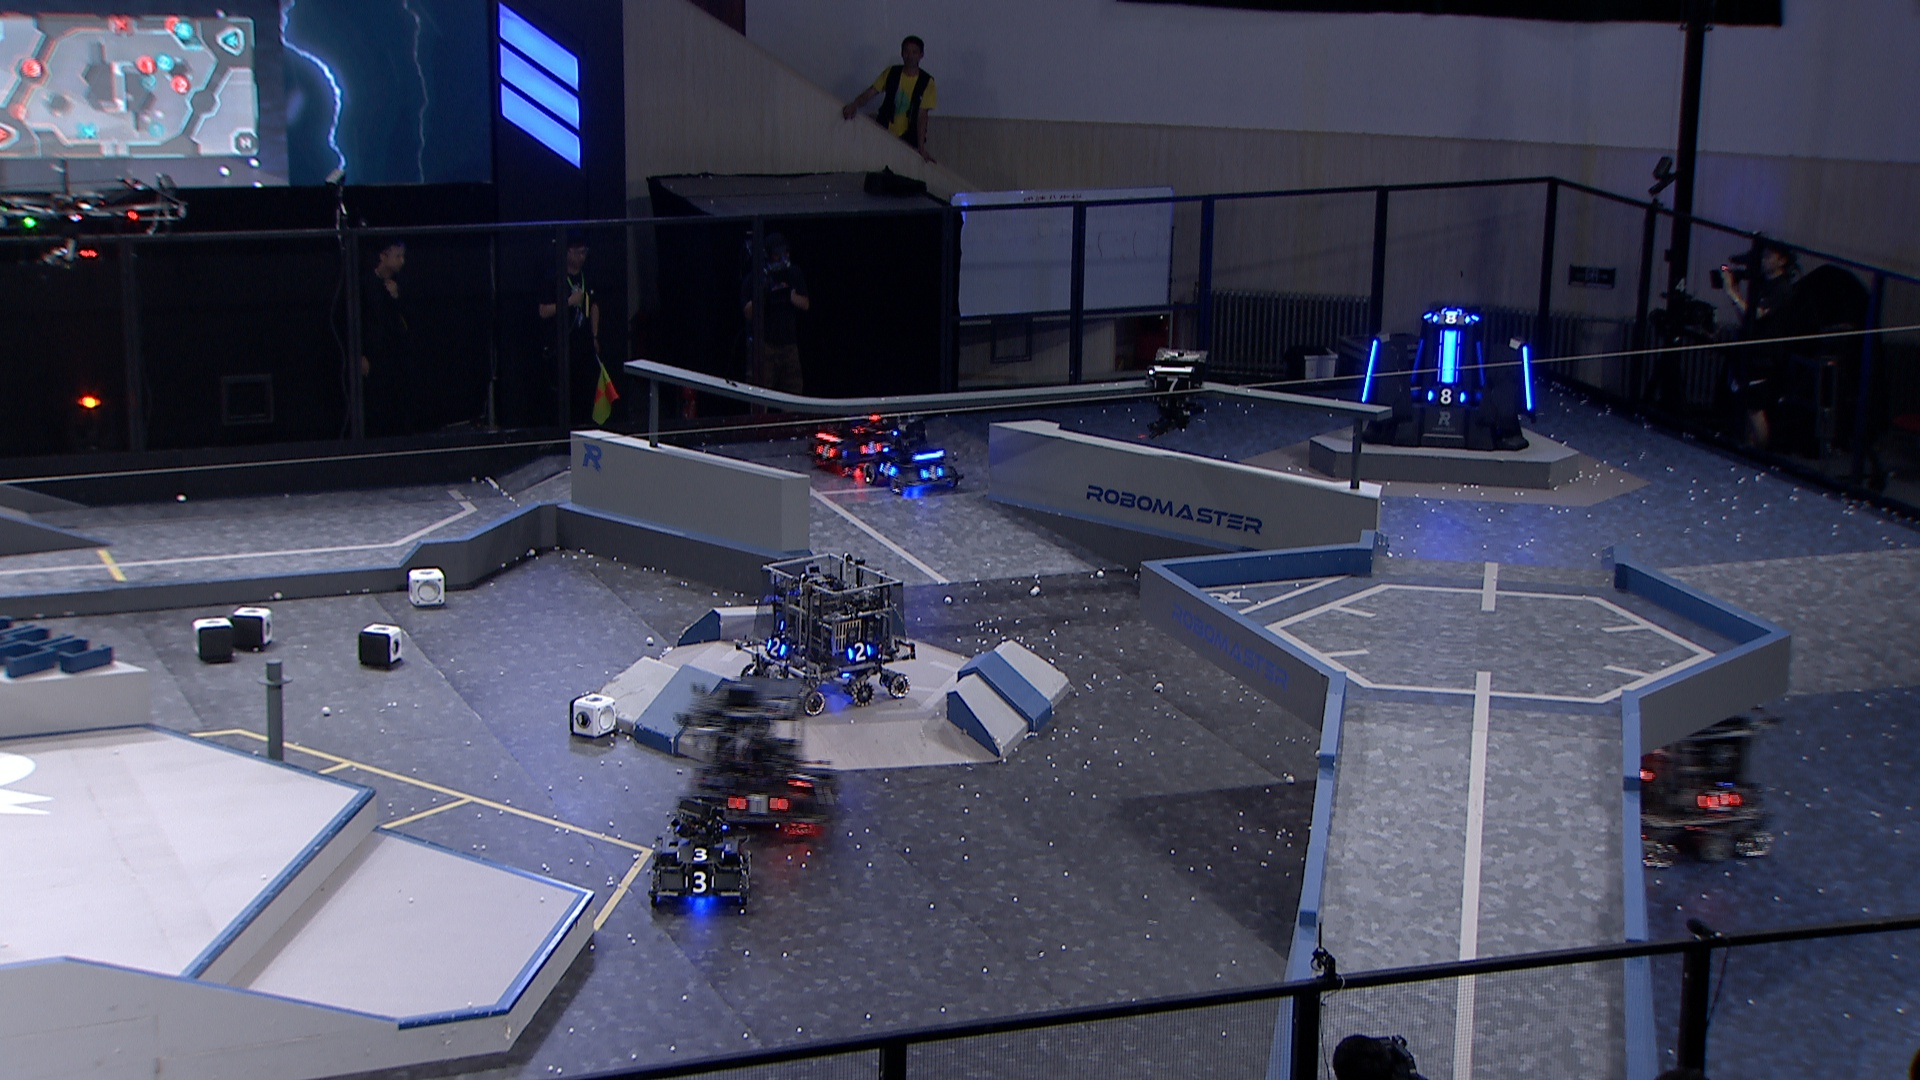armor: (1360, 334, 1381, 405), (727, 793, 790, 816), (1437, 328, 1462, 386), (1518, 345, 1536, 411), (1695, 789, 1741, 815), (1408, 335, 1429, 386), (674, 845, 727, 865), (1472, 335, 1491, 386), (680, 872, 719, 898), (785, 766, 822, 789), (1153, 376, 1193, 396), (1432, 309, 1472, 328), (1424, 389, 1466, 405), (764, 636, 789, 659), (845, 641, 873, 662), (918, 462, 945, 481), (814, 440, 839, 462), (858, 436, 884, 456), (878, 462, 897, 480)
base: (1353, 302, 1539, 454)
car: (735, 547, 926, 717), (1617, 692, 1789, 870), (674, 662, 840, 833), (642, 800, 756, 916), (862, 417, 967, 496), (803, 405, 894, 484)
watcher: (1143, 347, 1212, 438)
